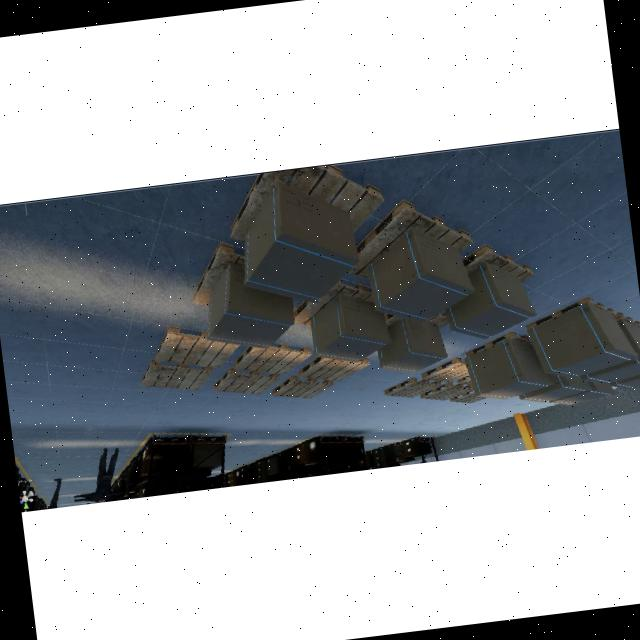wooden_pallet: (229, 165, 383, 247), (346, 198, 474, 280), (154, 326, 239, 369), (193, 242, 245, 308), (460, 243, 534, 284), (523, 297, 614, 329), (234, 342, 312, 375), (140, 360, 213, 390), (213, 367, 279, 396), (298, 356, 370, 382), (465, 331, 531, 357), (271, 375, 333, 399), (421, 357, 469, 383), (384, 377, 441, 398), (420, 382, 474, 400), (449, 391, 486, 404), (456, 375, 473, 386)
